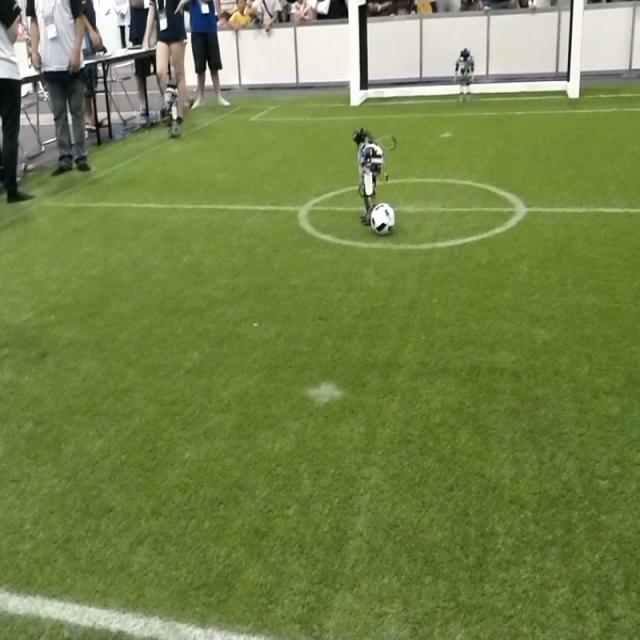ball: (369, 200, 396, 238)
goalpost: (566, 0, 584, 96), (346, 0, 360, 108)
